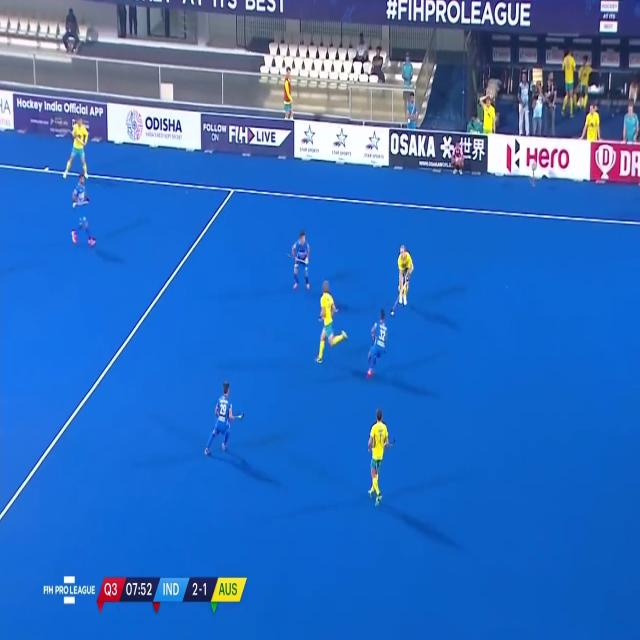ball: (388, 308, 396, 320)
